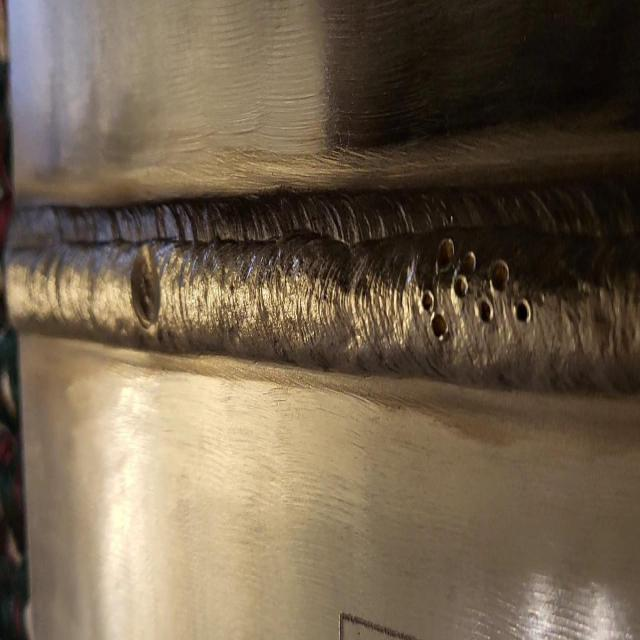Welding Line: (8, 215, 640, 372)
Workpiece: (17, 0, 640, 640)
porosity: (422, 238, 533, 340), (129, 240, 161, 328)
